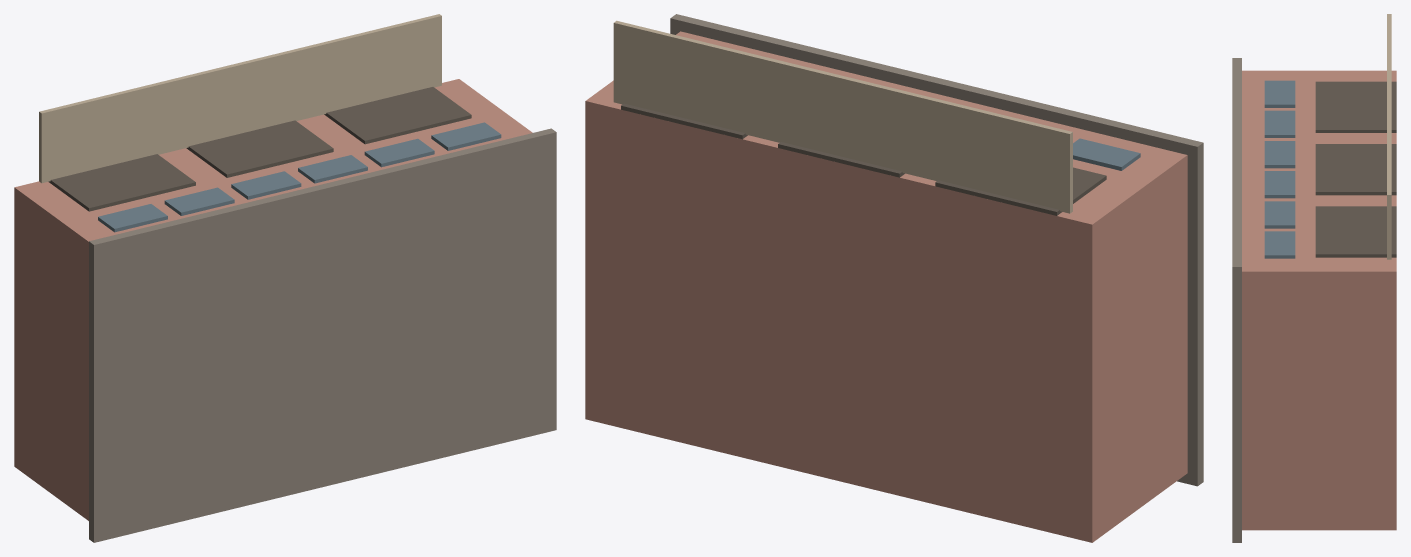
File: r-149-thyro-boathouse.glb
3 views of the same model, side by side, from view 1: azimuth 30°, elevation 25°; view 2: azimuth 150°, elevation 25°; view 3: azimuth 270°, elevation 25° (orthographic). The views are drawn at different scales.
Parts seen in each view (by area): view 1: roof, walls, jetty, boat-doors, windows; view 2: walls, jetty, roof, boat-doors, windows; view 3: walls, boat-doors, windows, roof, jetty.
Part boxes in pixels (x1,y1,x2,y2): roof: (89,128,556,542); walls: (14,79,532,520); jetty: (39,14,441,183); boat-doors: (48,87,471,211); windows: (98,122,501,232); walls: (585,31,1187,542); jetty: (613,20,1072,213); roof: (670,14,1203,486); boat-doors: (621,103,1106,215); windows: (1073,138,1140,170); walls: (1242,70,1396,530); boat-doors: (1315,81,1396,257); windows: (1264,80,1295,258); roof: (1232,58,1241,542); jetty: (1387,14,1391,259).
Size of the model in its own units: 20800 by 15500 by 6901.
